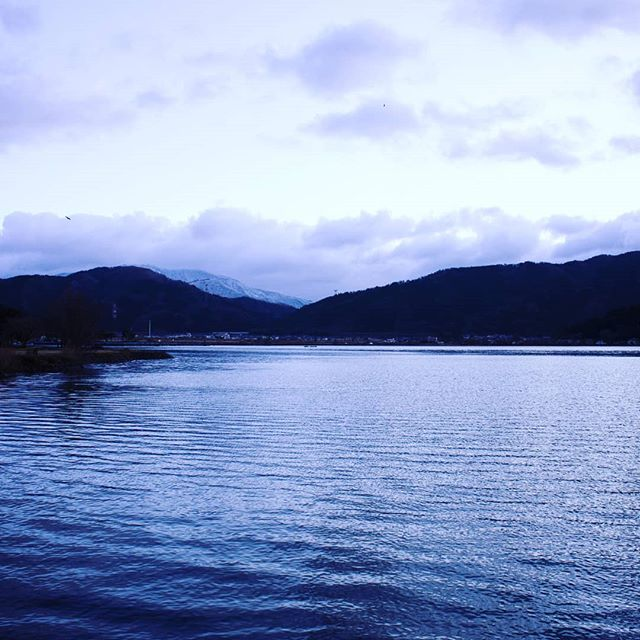mountain: (38, 245, 279, 295)
sea: (8, 340, 640, 640)
sky: (1, 1, 640, 243)
